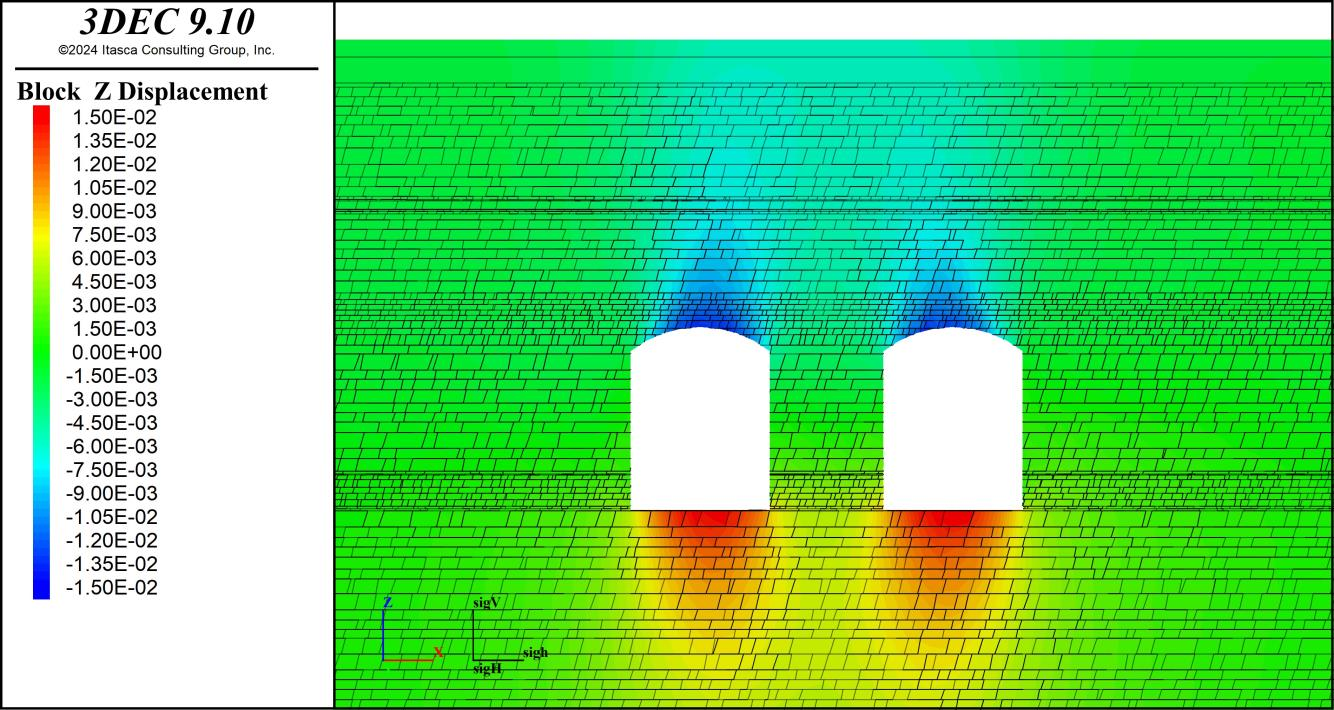crown: (933, 307, 973, 329), (681, 307, 719, 328)
label: (0, 2, 332, 703)
tunnel-opening: (630, 327, 767, 510), (884, 329, 1023, 509)
